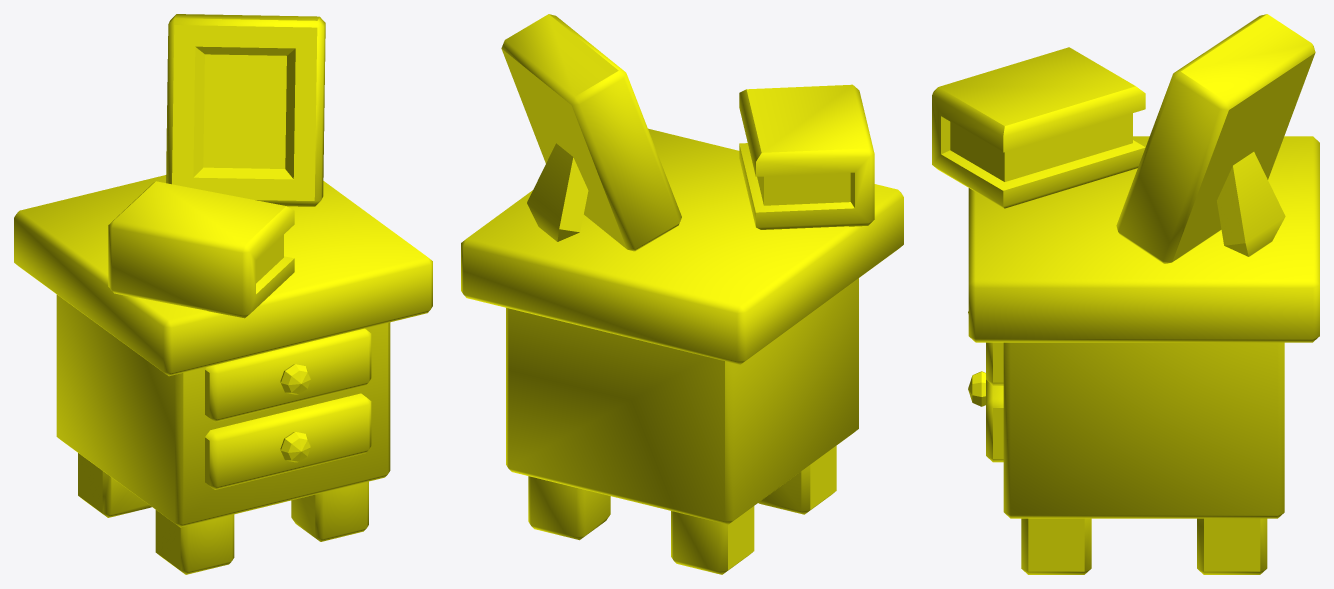
Rendered from kaykit-cabinet-small-decorated.glb.
The picture shows the model from 3 angles, left to right: view 1: azimuth 30°, elevation 25°; view 2: azimuth 150°, elevation 25°; view 3: azimuth 270°, elevation 25°; orthographic projection. The views are drawn at different scales.
Visible parts, largest first — view 1: cabinet_small_decorated; view 2: cabinet_small_decorated; view 3: cabinet_small_decorated.
Boxes of the visible parts, x1=… form: cabinet_small_decorated: x1=14, y1=14, x2=432, y2=574; cabinet_small_decorated: x1=461, y1=14, x2=903, y2=574; cabinet_small_decorated: x1=932, y1=14, x2=1319, y2=574.
Bounding box in the file's own units: 1.05 × 1.62 × 1.1.
